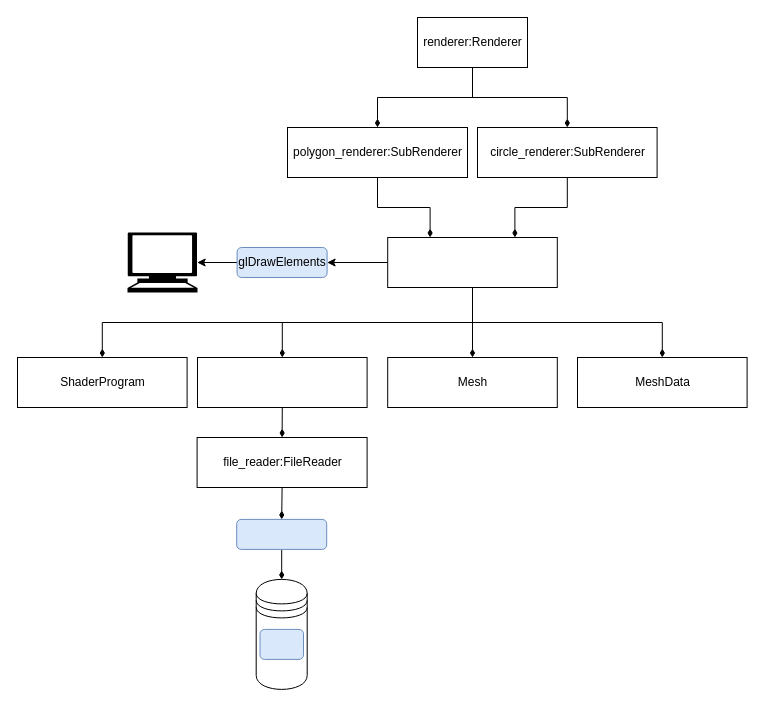
The diagram is 765 pixels wide and 707 high, and some of its shapes have lost their labels. The centre of each missing label's shape, as x and y in pixels:
Disk: pixel 281 643
GLutils: pixel 281 382
ifStream: pixel 281 533
SubRenderer: pixel 472 262
